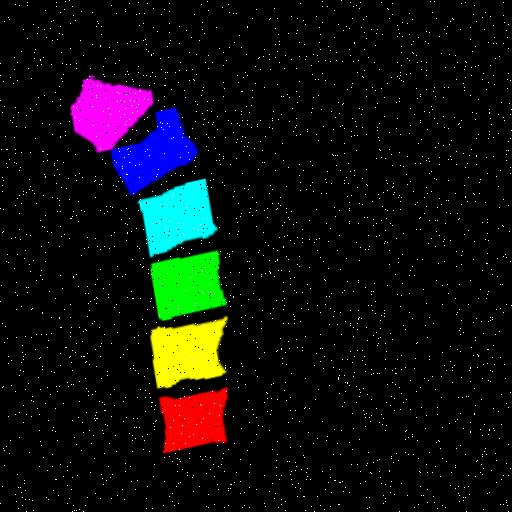L1: (161, 388, 230, 452)
L2: (152, 315, 229, 387)
L3: (152, 250, 228, 319)
L4: (139, 179, 218, 255)
L5: (111, 107, 198, 194)
S1: (69, 77, 151, 152)
